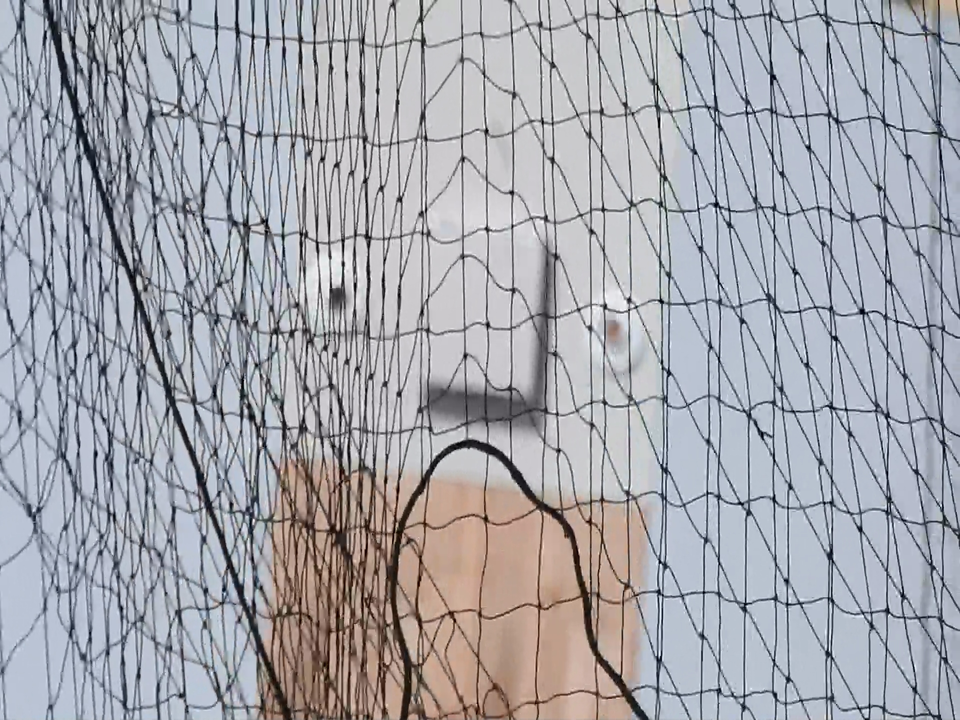facade: (306, 217, 645, 411)
